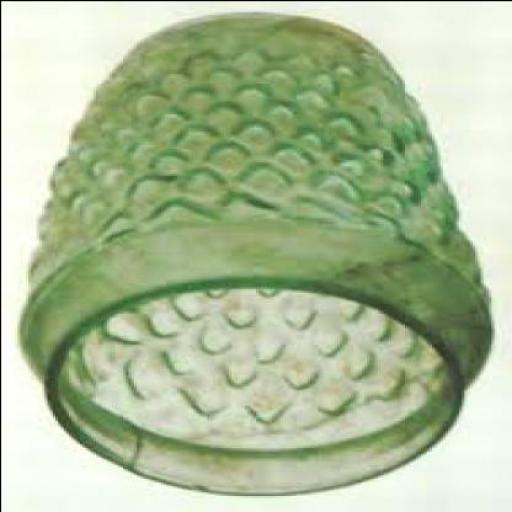glass: (19, 16, 493, 498)
